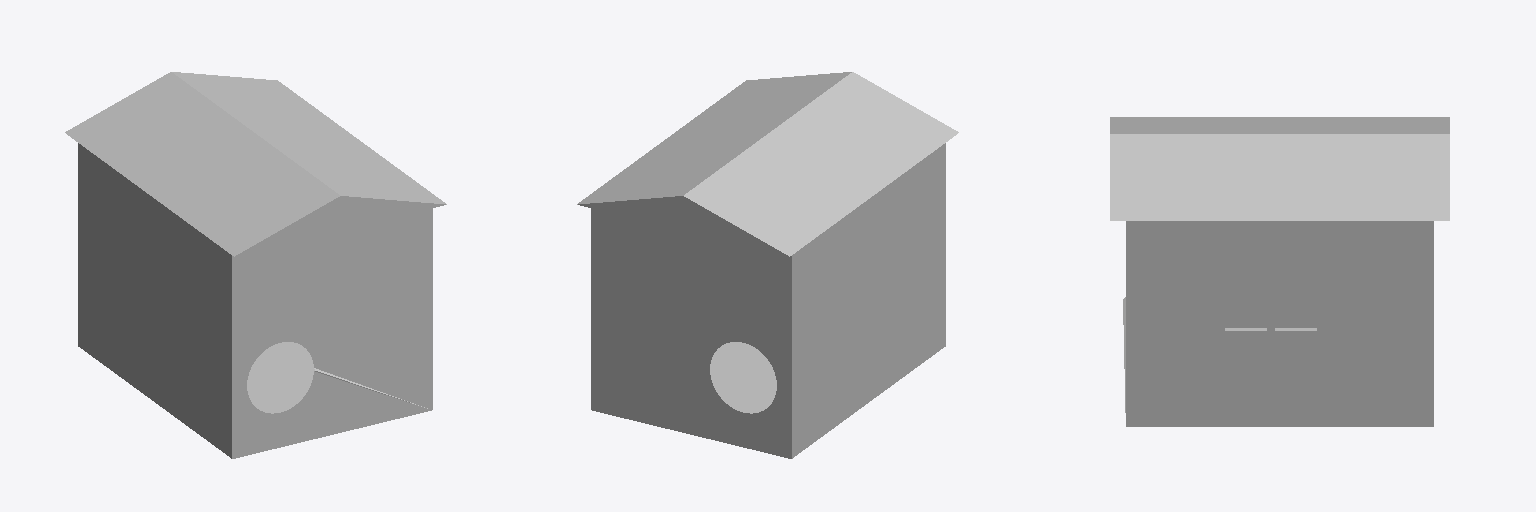
File: grs_filter.obj
3 renders of one model, left to right at view 1: azimuth 30°, elevation 25°; view 2: azimuth 150°, elevation 25°; view 3: azimuth 270°, elevation 25°, orthographic.
Parts seen in each view (by area): view 1: obj1; view 2: obj1; view 3: obj1.
Boxes of the visible parts, x1=… form: obj1: x1=65, y1=72, x2=446, y2=458; obj1: x1=577, y1=72, x2=958, y2=458; obj1: x1=1110, y1=117, x2=1449, y2=426.
Bounding box in the file's own units: 3.2 × 3.5 × 4.4.